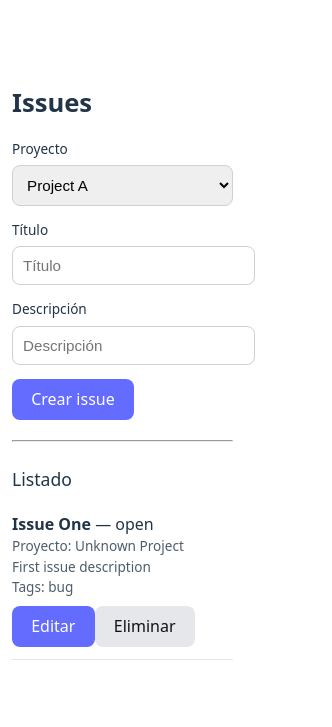
Test: updates an issue
The width and height of the screenshot is (332, 727).
Expected: the text "Issue One" is shown, [12,513,91,535]
Click the button "Editar" at (53, 626), box [12,606,95,647]
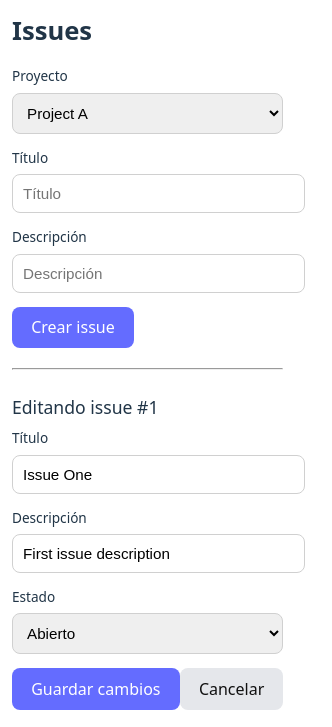
Expected: the heading "Editando issue #1" is shown, [12,395,158,419]
Replace the text in the 1st field showing "Issue One" with "Updated Issue" at (159, 474), box [12,454,306,494]
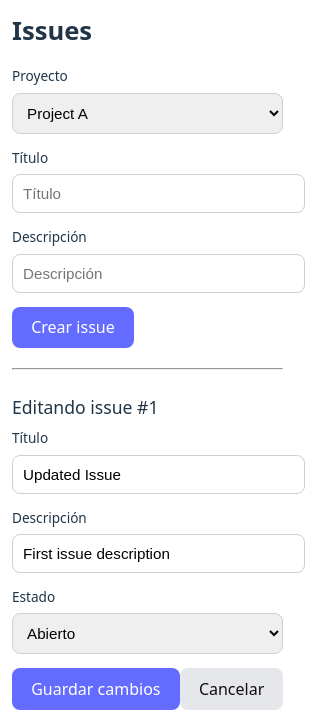
Replace the text in the 2nd field showing "First issue description" with "Updated description" at (159, 553), box [12,534,306,573]
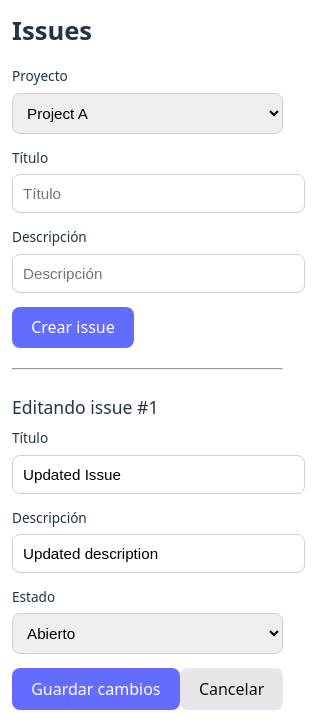
Click the button "Guardar cambios" at (96, 689), box [12,668,180,710]
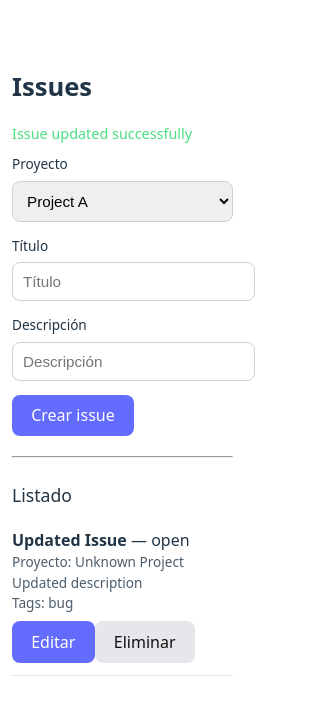
Expected: the text "Updated Issue" is shown, [12,529,127,551]
